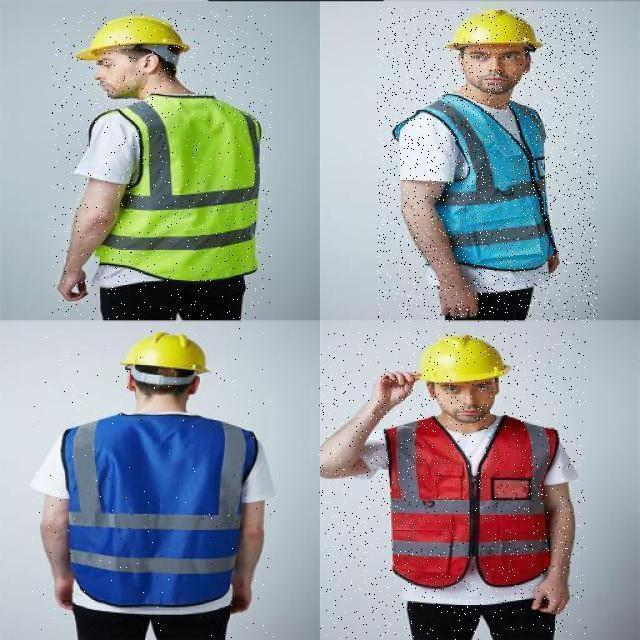helmet on: (76, 13, 195, 98), (422, 332, 514, 422), (448, 10, 546, 94), (114, 333, 212, 412)
no glove: (424, 272, 482, 320), (526, 572, 575, 616), (368, 368, 422, 407), (52, 262, 98, 304)
person: (318, 330, 586, 640), (29, 328, 280, 640), (377, 9, 597, 322), (52, 10, 272, 320)
vest: (55, 415, 250, 604), (82, 91, 266, 290), (379, 405, 565, 583), (387, 90, 567, 270)
